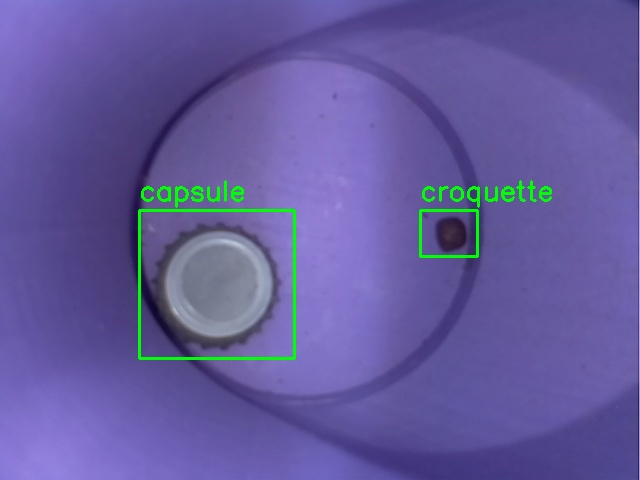capsule: (139, 210, 294, 358)
croquette: (420, 210, 477, 256)
